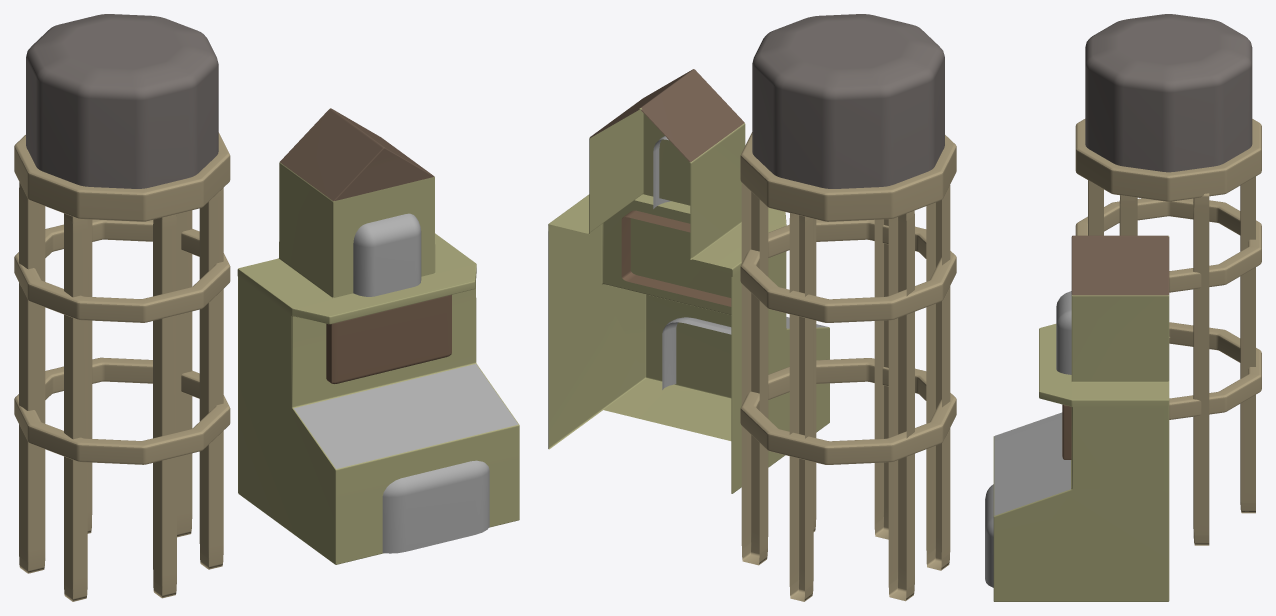
Rendered from home 5.fbx.
3 renders of one model, left to right at view 1: azimuth 30°, elevation 25°; view 2: azimuth 150°, elevation 25°; view 3: azimuth 270°, elevation 25°, orthographic. The views are drawn at different scales.
Parts seen in each view (by area): view 1: polySurface3569; view 2: polySurface3569; view 3: polySurface3569.
Boxes of the visible parts, x1,y1,x2,y2 form: polySurface3569: (14,14,519,601); polySurface3569: (548,14,956,601); polySurface3569: (985,14,1261,601).
Bounding box in the file's own units: 97.72 × 123 × 66.13.
